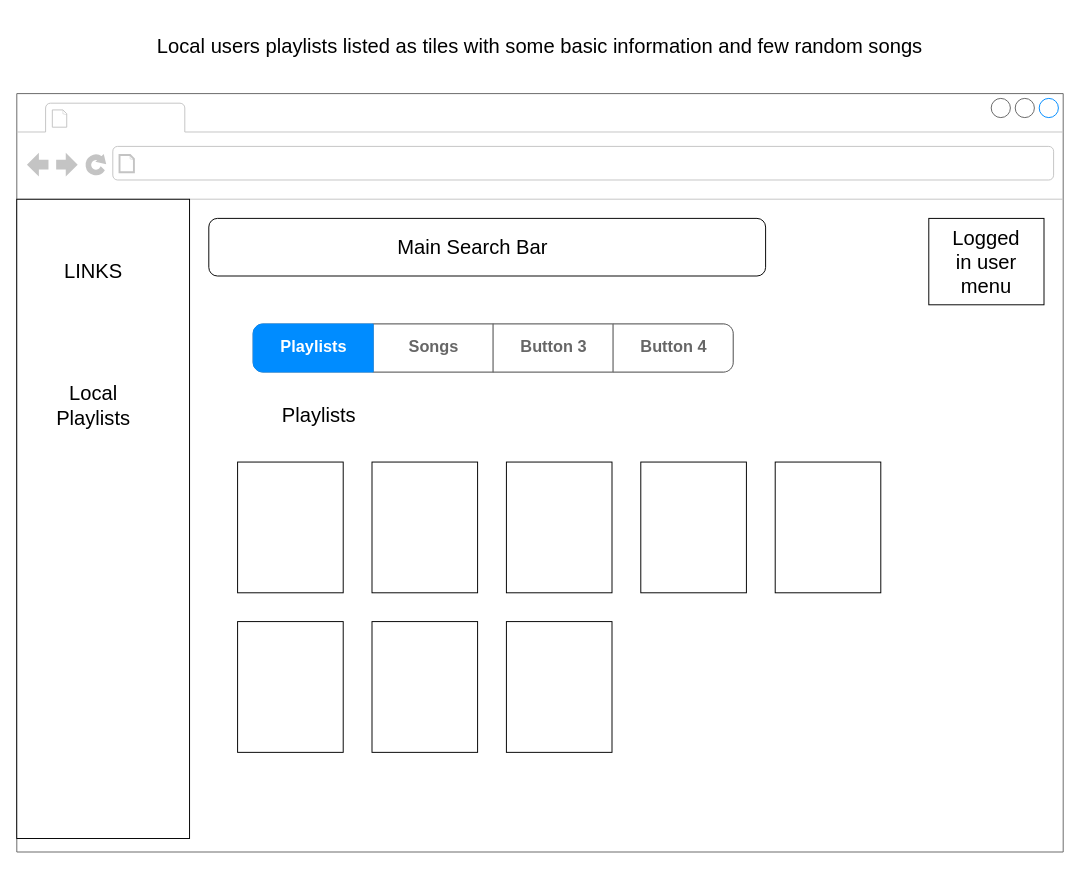
Image size: 1081x869. Some labels were removed from this diagram. The shapes that lost their labels are listed below. From the top down, each one's centre as x and y in pixels, then its label:
At (x=126, y=117): "Spotify Clone".
At (x=261, y=163): "https://localhost:4000/playlists/:id".
